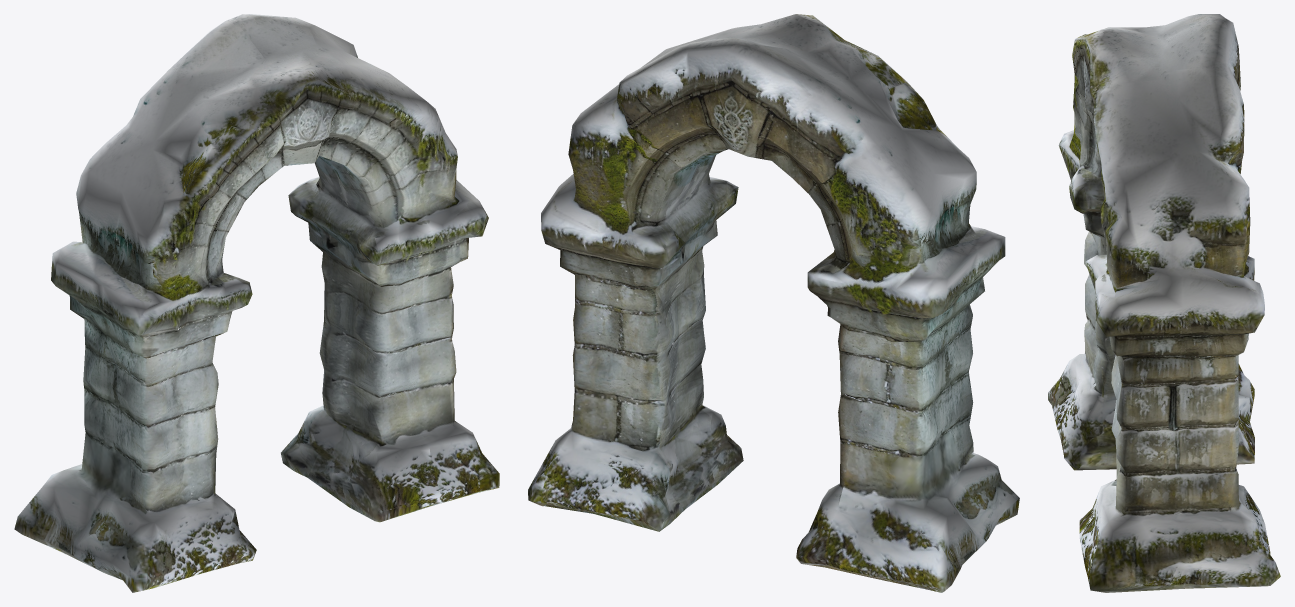
The model's file is free_ultra-low_poly_snowy_stone_arch.obj.
3 views of the same model, side by side, from view 1: azimuth 30°, elevation 25°; view 2: azimuth 150°, elevation 25°; view 3: azimuth 270°, elevation 25° (orthographic). The views are drawn at different scales.
Parts seen in each view (by area): view 1: obj1; view 2: obj1; view 3: obj1.
Part boxes in pixels (x1=…): obj1: x1=14, y1=14, x2=499, y2=592; obj1: x1=528, y1=14, x2=1019, y2=592; obj1: x1=1048, y1=14, x2=1280, y2=592.
Size of the model in its own units: 1.05 by 1.2 by 0.5208.
1 material, 1 textured.
